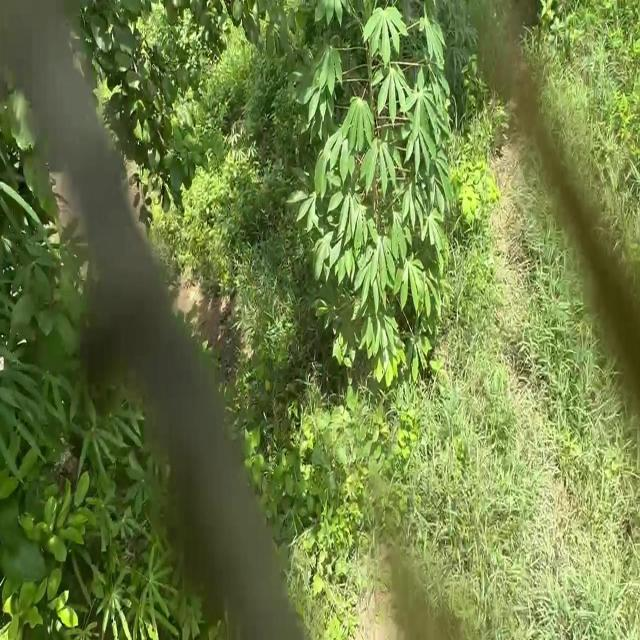Maleza: (247, 452, 521, 630), (447, 381, 640, 552), (375, 509, 629, 621), (505, 224, 633, 420), (169, 184, 288, 385), (186, 83, 274, 260), (128, 21, 236, 135), (4, 565, 101, 640), (459, 152, 531, 253), (15, 485, 86, 562)
